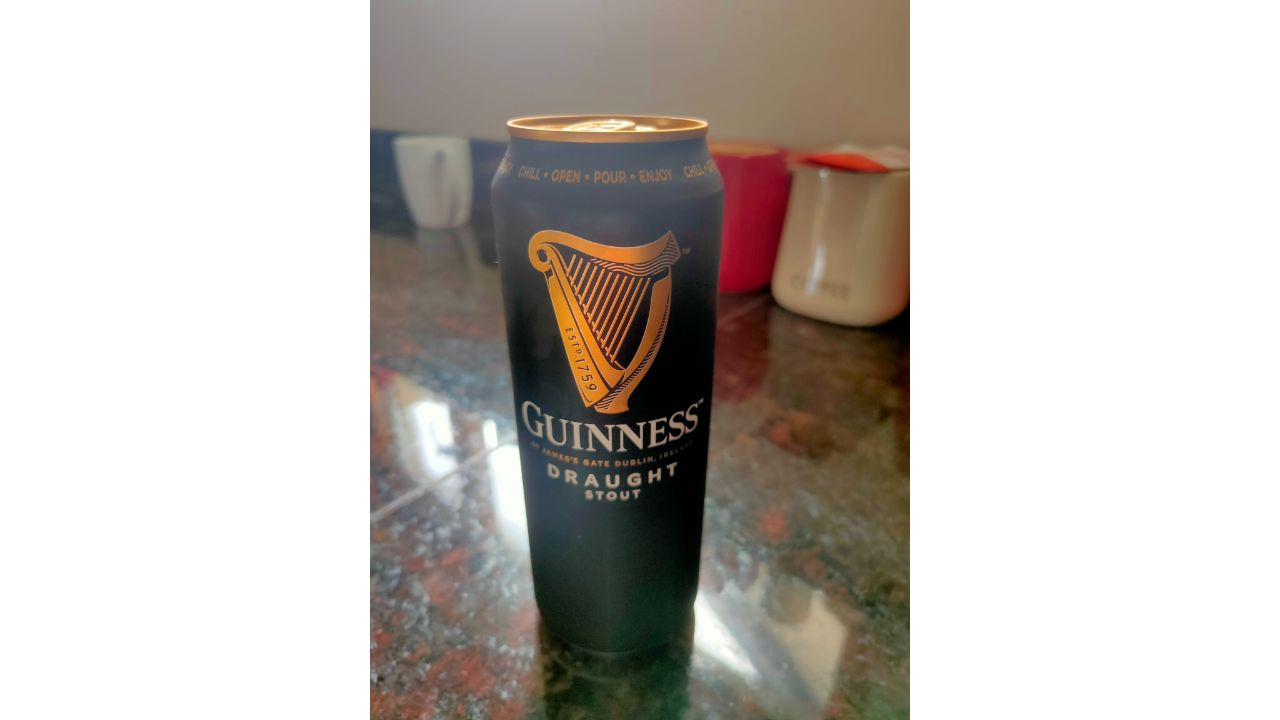Can: (485, 115, 739, 655)
